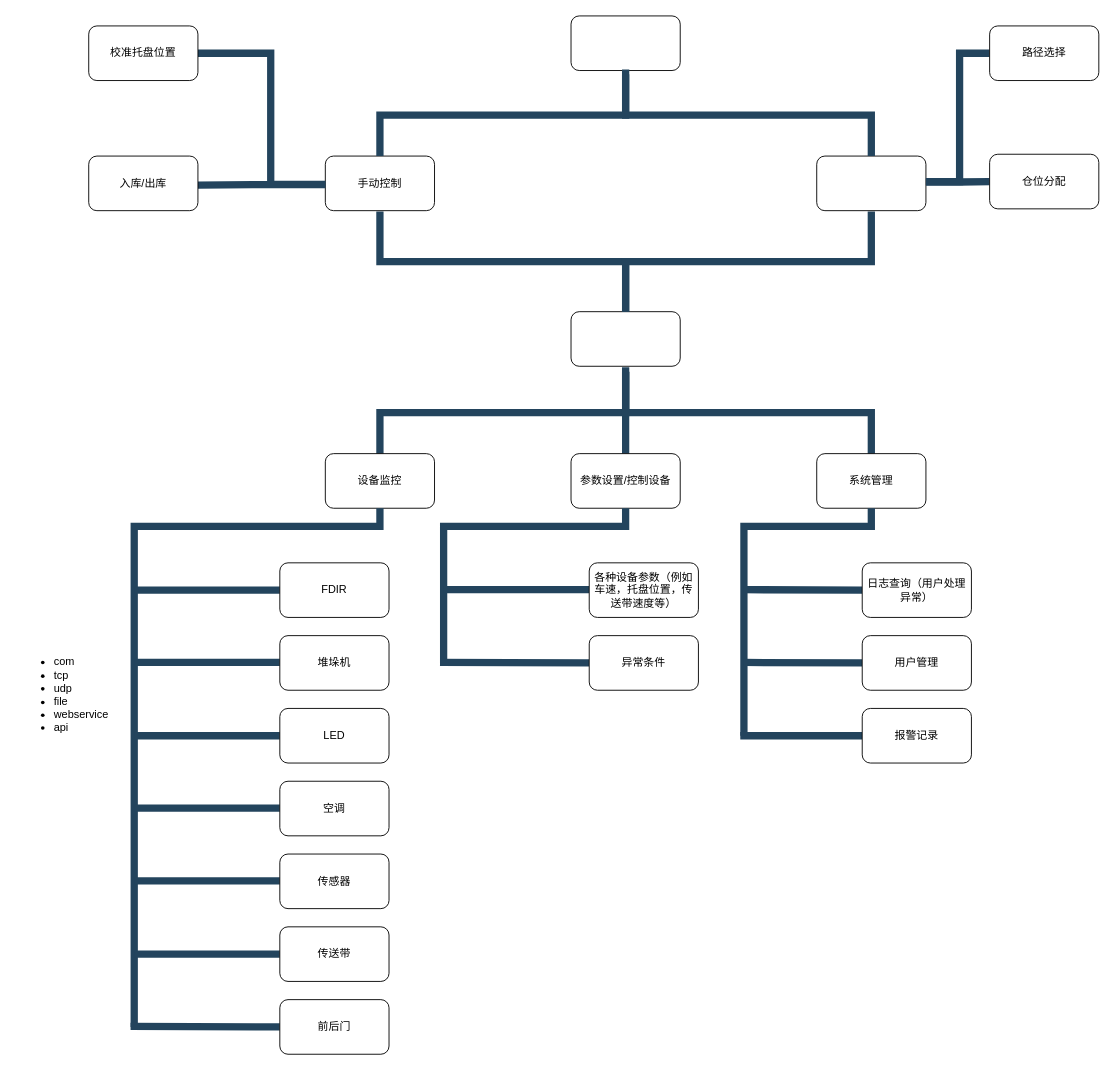
The diagram is 1115 pixels wide and 1070 high, and some of its shapes have lost their labels. Here are the shapes that lost their labels. From the top down, the box of each, then its label:
(570, 15, 680, 71): WMS
(816, 155, 926, 211): 任务调度（自动任务）
(570, 311, 680, 366): WCS
